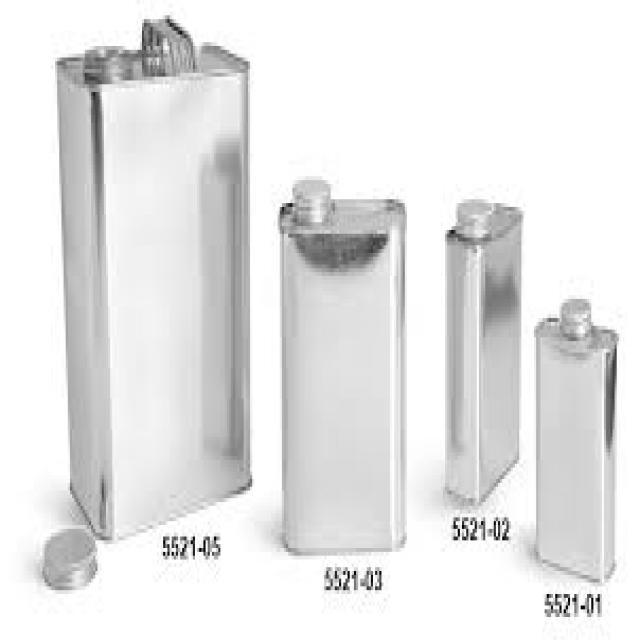recyclable: (54, 17, 252, 547), (279, 175, 406, 554), (443, 196, 523, 504), (534, 298, 618, 588), (42, 522, 97, 592)
